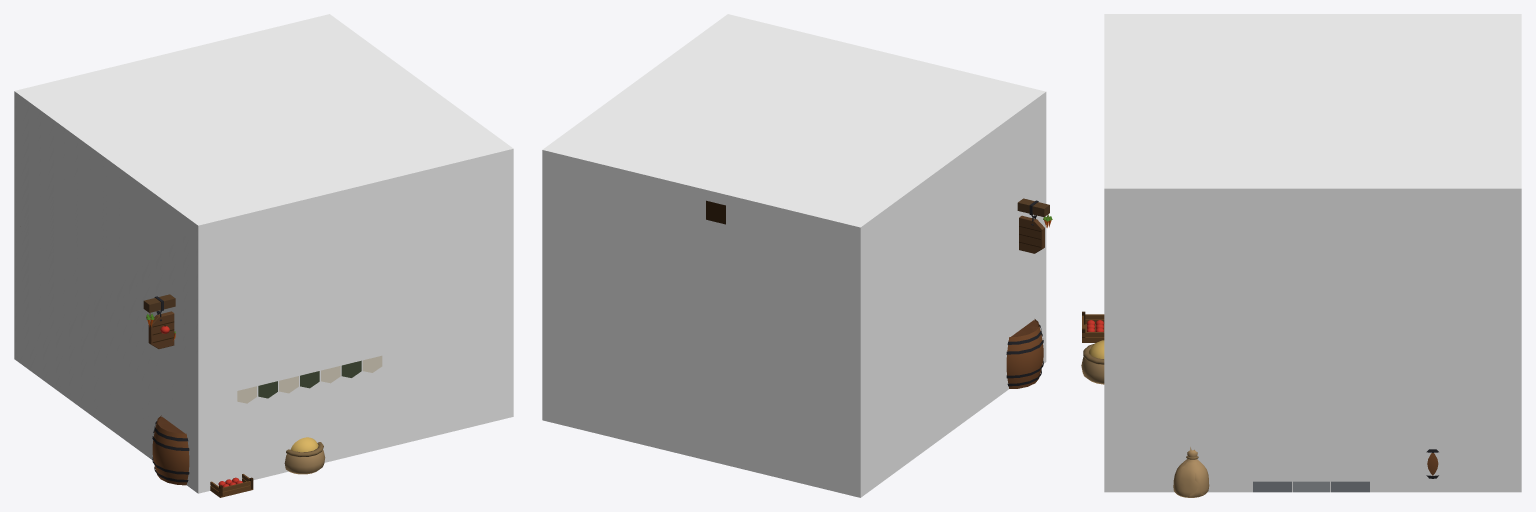
File: building_medieval_market_stall_a.glb
3 renders of one model, left to right at view 1: azimuth 30°, elevation 25°; view 2: azimuth 150°, elevation 25°; view 3: azimuth 270°, elevation 25°, orthographic. The views are drawn at different scales.
Parts seen in each view (by area): view 1: COL_building_medieval_market_stall_a, props-group, awning-group, trade-sign-group; view 2: COL_building_medieval_market_stall_a, props-group, trade-sign-group; view 3: COL_building_medieval_market_stall_a, props-group, foundation-group.
Part boxes in pixels (x1=…): COL_building_medieval_market_stall_a: x1=14, y1=14, x2=513, y2=493; props-group: x1=152, y1=417, x2=325, y2=497; awning-group: x1=237, y1=355, x2=382, y2=403; trade-sign-group: x1=143, y1=294, x2=175, y2=348; COL_building_medieval_market_stall_a: x1=542, y1=14, x2=1046, y2=497; props-group: x1=1006, y1=320, x2=1043, y2=388; trade-sign-group: x1=1017, y1=198, x2=1052, y2=253; COL_building_medieval_market_stall_a: x1=1104, y1=14, x2=1521, y2=492; props-group: x1=1081, y1=311, x2=1438, y2=497; foundation-group: x1=1253, y1=481, x2=1369, y2=492.
Bounding box in the file's own units: 5.67 × 4.04 × 5.31.
